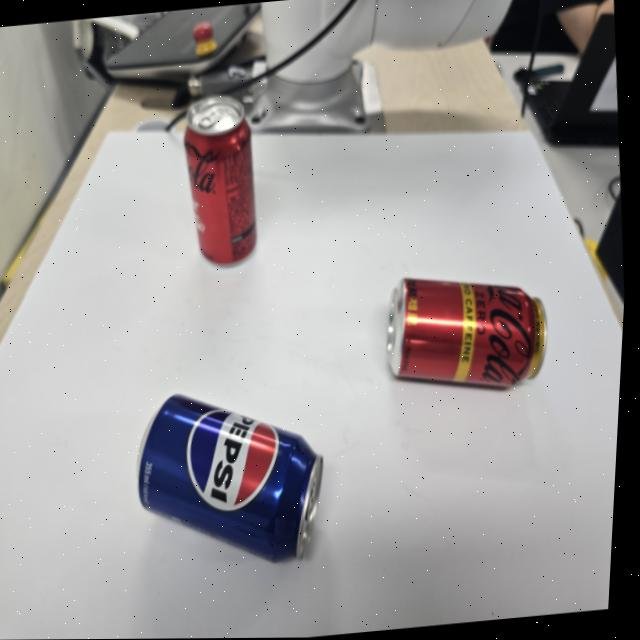can_coke_decaf: (384, 274, 547, 387)
can_coke_zero: (183, 92, 257, 264)
can_pepsi: (136, 388, 325, 564)
